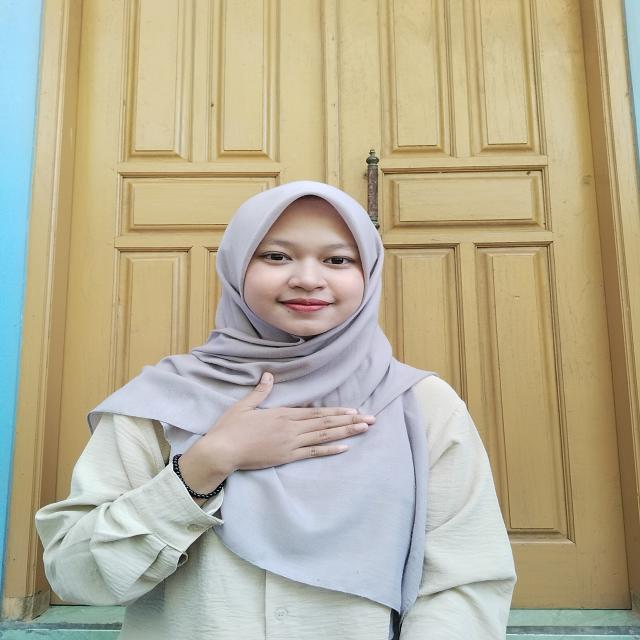tolong: (135, 370, 380, 508)
